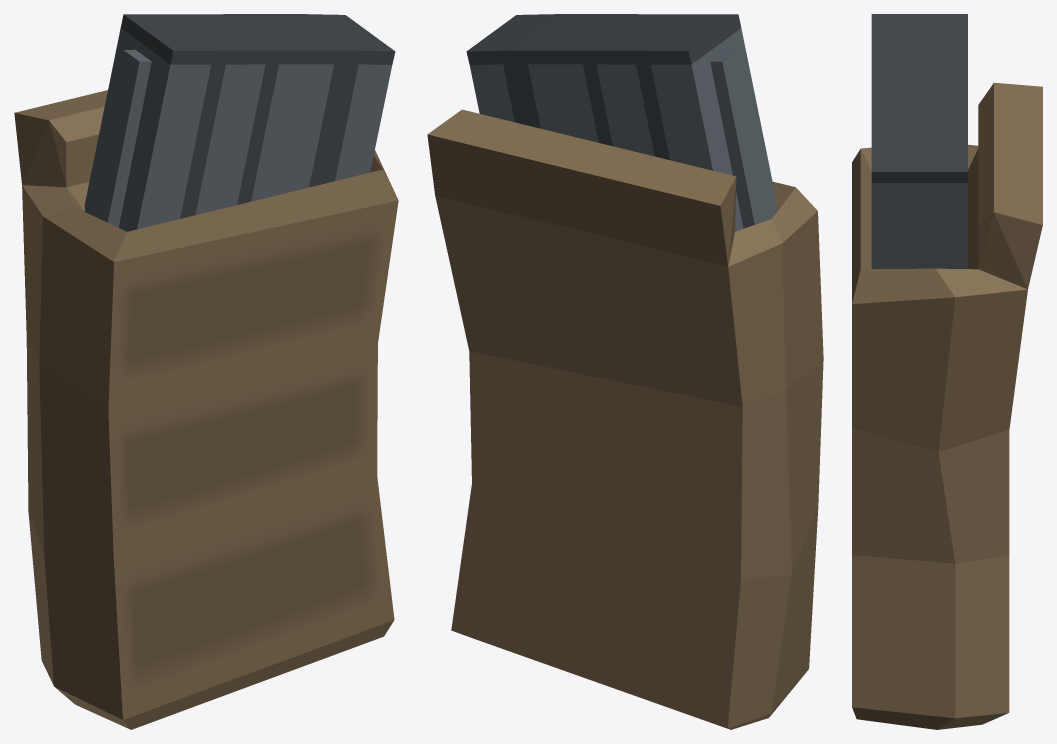
File: SM_Chr_Attach_Pouch_Mag_Single_01.fbx
3 renders of one model, left to right at view 1: azimuth 30°, elevation 25°; view 2: azimuth 150°, elevation 25°; view 3: azimuth 270°, elevation 25°, orthographic. The views are drawn at different scales.
Parts seen in each view (by area): view 1: SM_Chr_Attach_Pouch_Mag_Single_01; view 2: SM_Chr_Attach_Pouch_Mag_Single_01; view 3: SM_Chr_Attach_Pouch_Mag_Single_01.
Boxes of the visible parts, bbox=[...] form: SM_Chr_Attach_Pouch_Mag_Single_01: bbox=[14, 14, 398, 729]; SM_Chr_Attach_Pouch_Mag_Single_01: bbox=[427, 14, 823, 729]; SM_Chr_Attach_Pouch_Mag_Single_01: bbox=[852, 14, 1042, 729].
Bounding box in the file's own units: 11.35 × 21.78 × 5.87.
